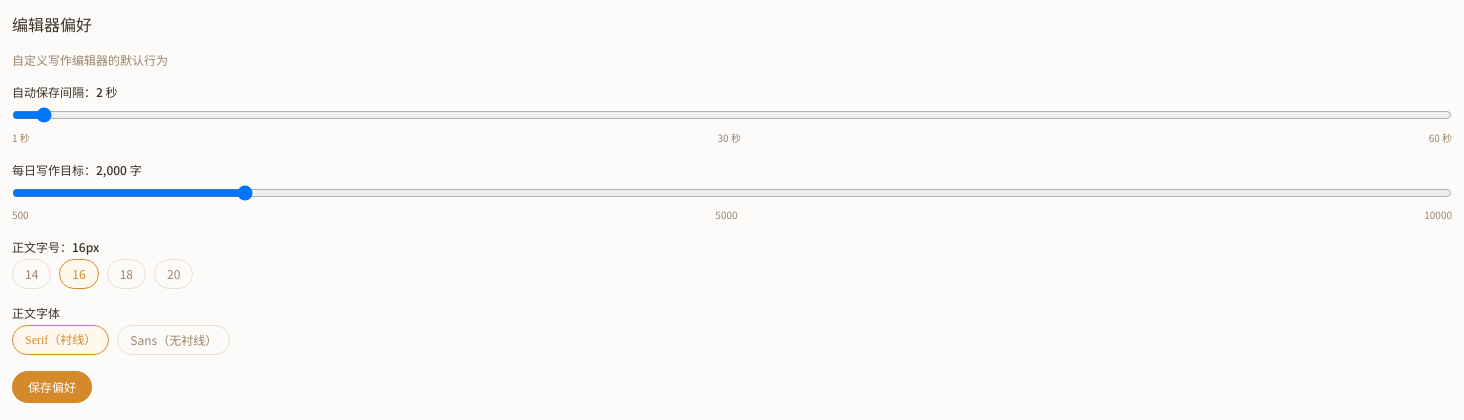
Scenario: EditorPrefs › should update font size when size button clicked
Click the button "18".
click(126, 274)  # box [107,259,146,289]
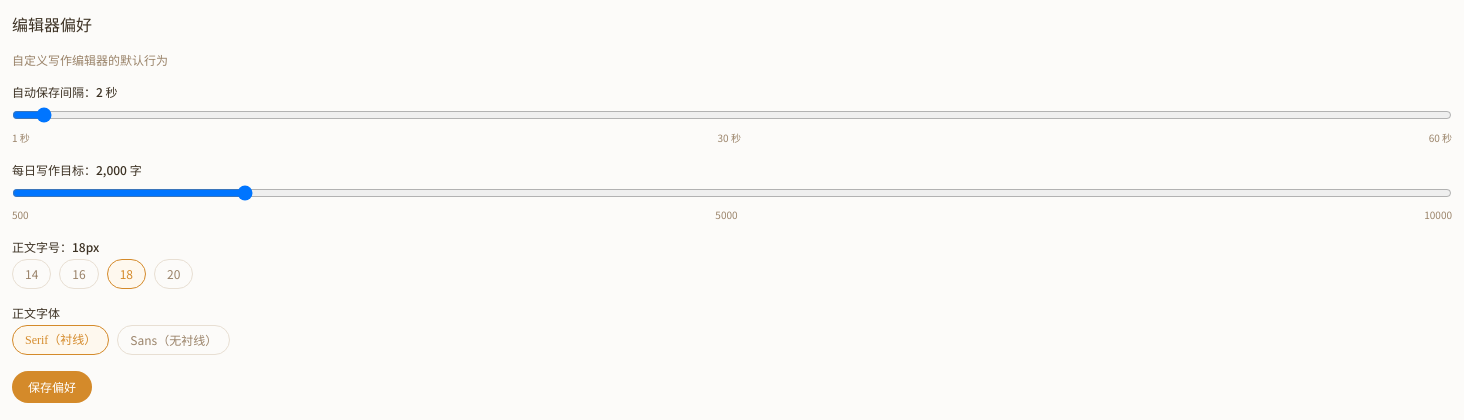
Expected: the text "正文字号：18px" is shown, [12,238,99,255]
